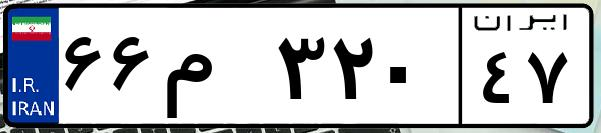0: (385, 28, 445, 110)
2: (330, 28, 385, 110)
3: (270, 28, 330, 110)
4: (475, 38, 525, 113)
6: (57, 26, 110, 100), (110, 28, 158, 98)
7: (525, 38, 570, 115)
م: (158, 20, 270, 120)
